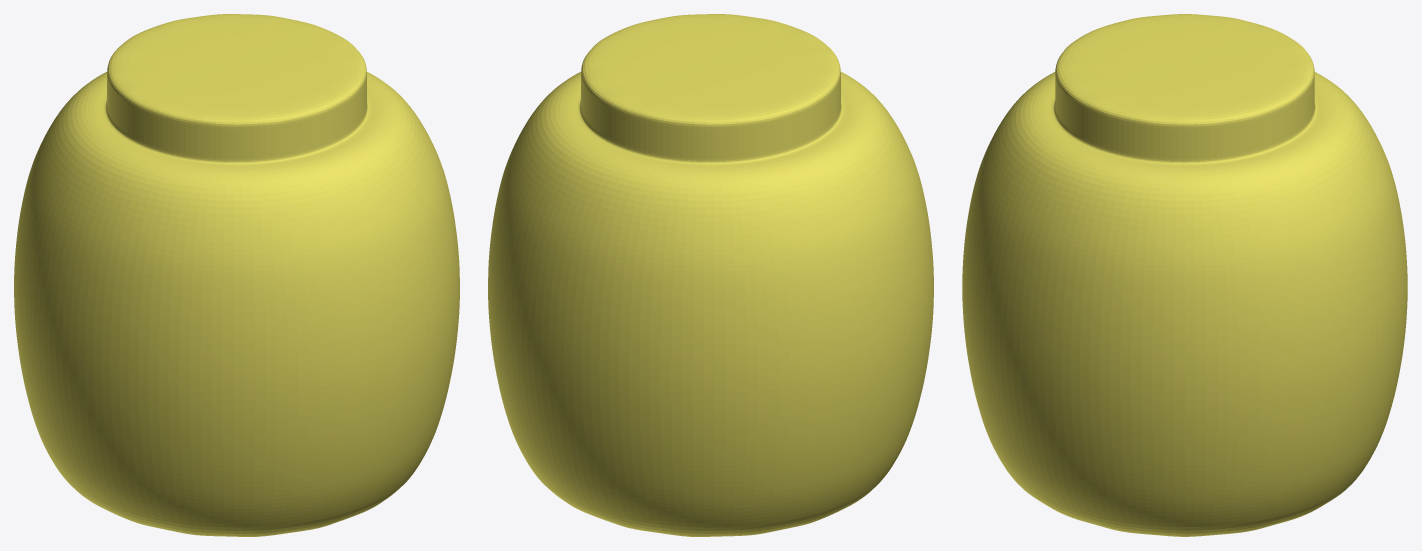
The model's file is pot.fbx.
The picture shows the model from 3 angles, left to right: view 1: azimuth 30°, elevation 25°; view 2: azimuth 150°, elevation 25°; view 3: azimuth 270°, elevation 25°; orthographic projection.
Parts seen in each view (by area): view 1: Cylinder.012; view 2: Cylinder.012; view 3: Cylinder.012.
Part boxes in pixels (x1,y1,x2,y2): Cylinder.012: (14,14,459,536); Cylinder.012: (488,14,933,536); Cylinder.012: (962,14,1407,536).
Bounding box in the file's own units: 20.7 × 21.55 × 20.7.
